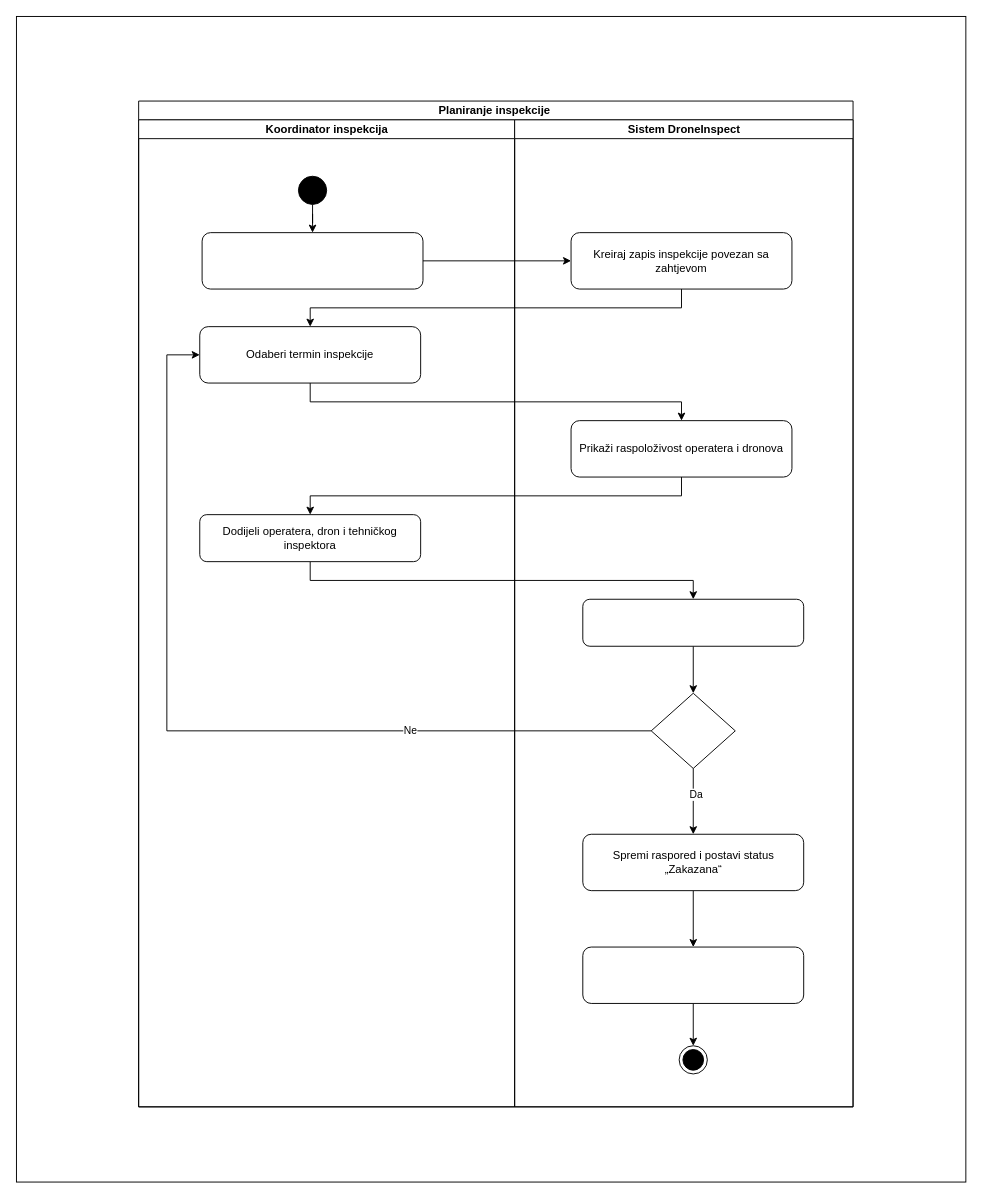
This 982x1199 diagram has some shape labels left out. The centre of each missing label's shape, as x and y in pixels:
Obavijesti klijenta i operatera: pixel 693 974
Otvori potpun zahtjev i pokreni planiranje: pixel 312 260
Provjeri preklapanje termina za operatera i dron: pixel 693 622
Resursi dostupni: pixel 692 730
